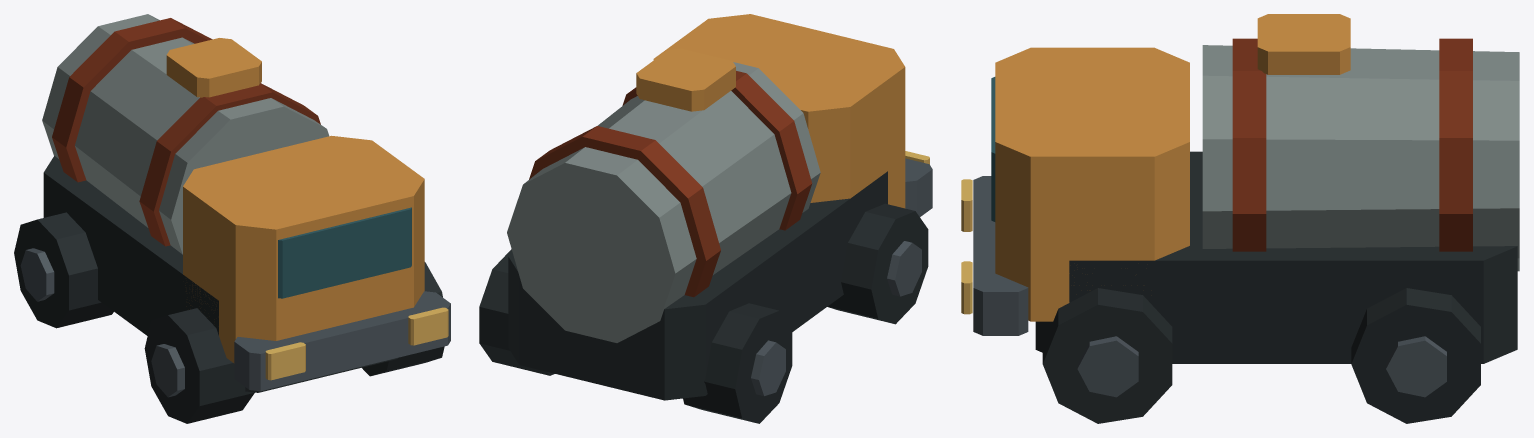
File: supply_truck.glb
The picture shows the model from 3 angles, left to right: view 1: azimuth 30°, elevation 25°; view 2: azimuth 150°, elevation 25°; view 3: azimuth 270°, elevation 25°; orthographic projection. The views are drawn at different scales.
Visible parts, largest first — view 1: supply_truck; view 2: supply_truck; view 3: supply_truck.
Part boxes in pixels (box(x1,y1,x2,y2)): supply_truck: box(14, 14, 450, 423); supply_truck: box(479, 14, 932, 423); supply_truck: box(961, 14, 1519, 423).
Size of the model in its own units: 0.85 by 0.8351 by 1.32.
